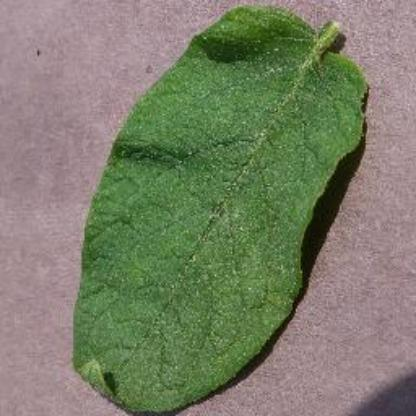Healthy-plant: (67, 3, 368, 411)
